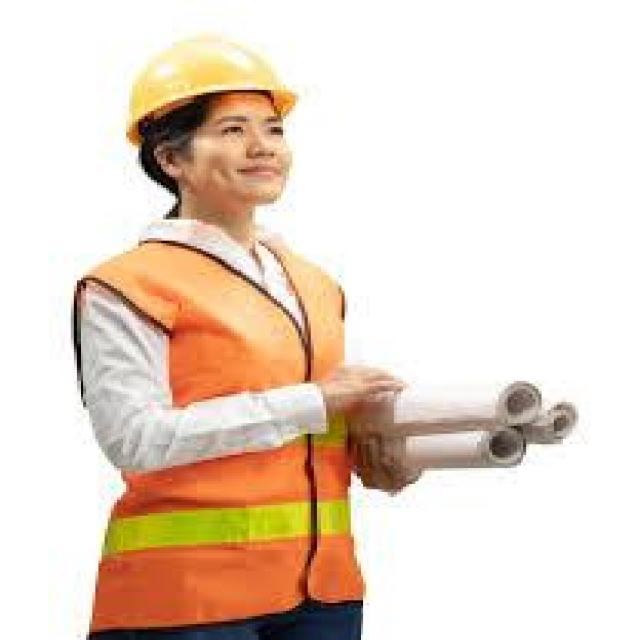Reflective-Jacket: (56, 214, 384, 632)
Safety-Helmet: (113, 24, 304, 132)
